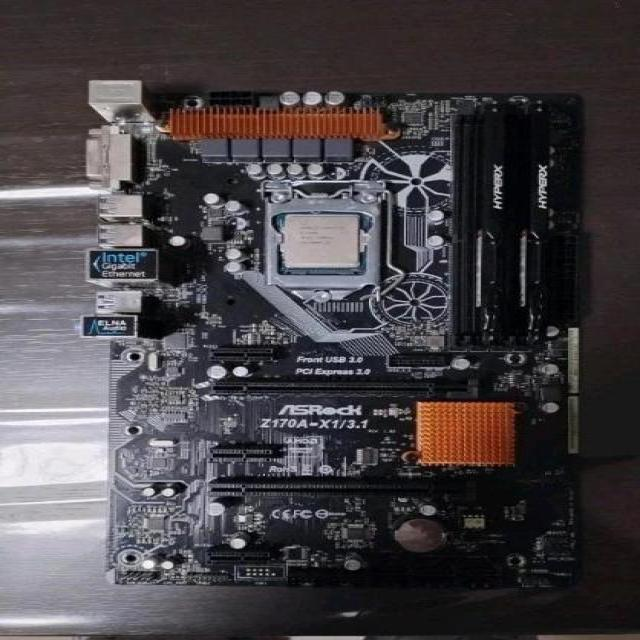CPU: (280, 214, 366, 268)
RAM: (520, 105, 552, 343), (477, 103, 506, 343)
